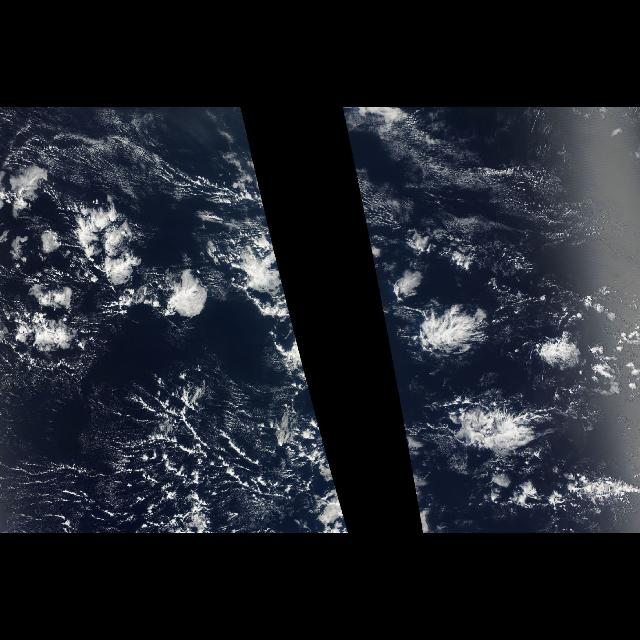Flower: (0, 183, 328, 457), (356, 183, 640, 457)
Gravel: (98, 391, 318, 533)
Sugar: (0, 378, 300, 532), (350, 108, 622, 220), (2, 110, 246, 194)
